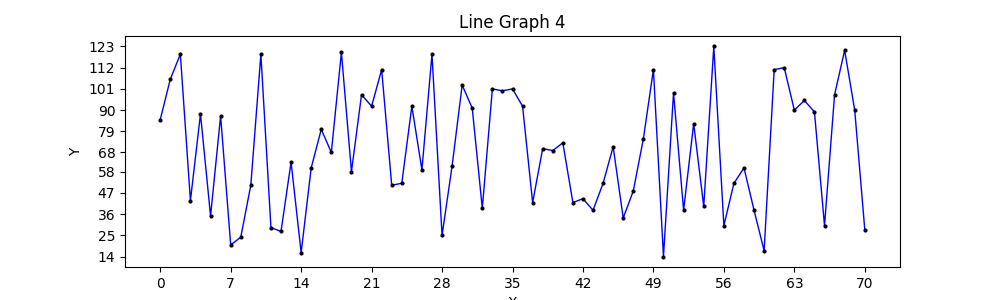cvs: (125, 36, 900, 267)
